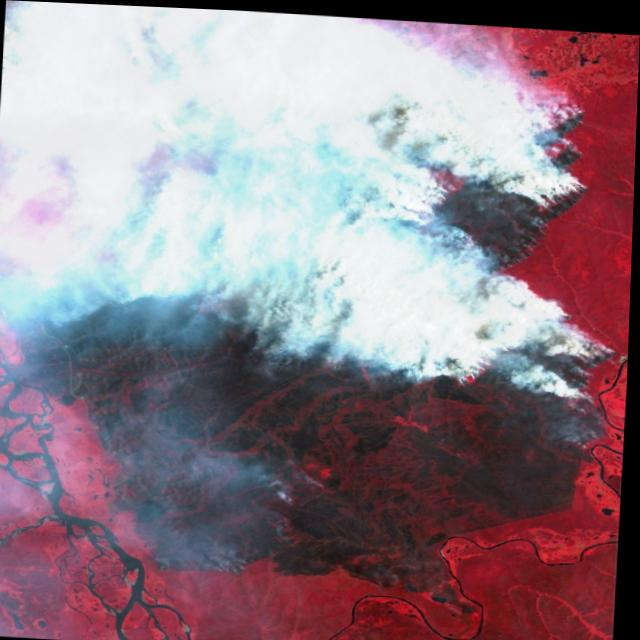fire: (158, 76, 604, 286), (450, 286, 628, 403)
